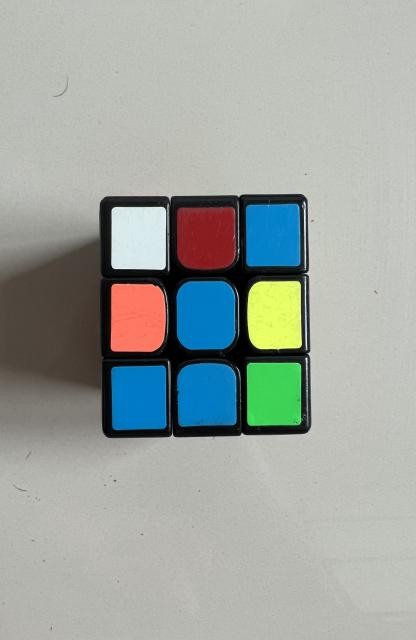Blue: (177, 281, 235, 350), (178, 362, 236, 428), (112, 366, 167, 430), (246, 204, 300, 266)
Green: (247, 362, 301, 426)
Orange: (110, 284, 166, 351)
Red: (177, 208, 236, 270)
White: (112, 206, 167, 270)
Yellow: (247, 281, 302, 350)
